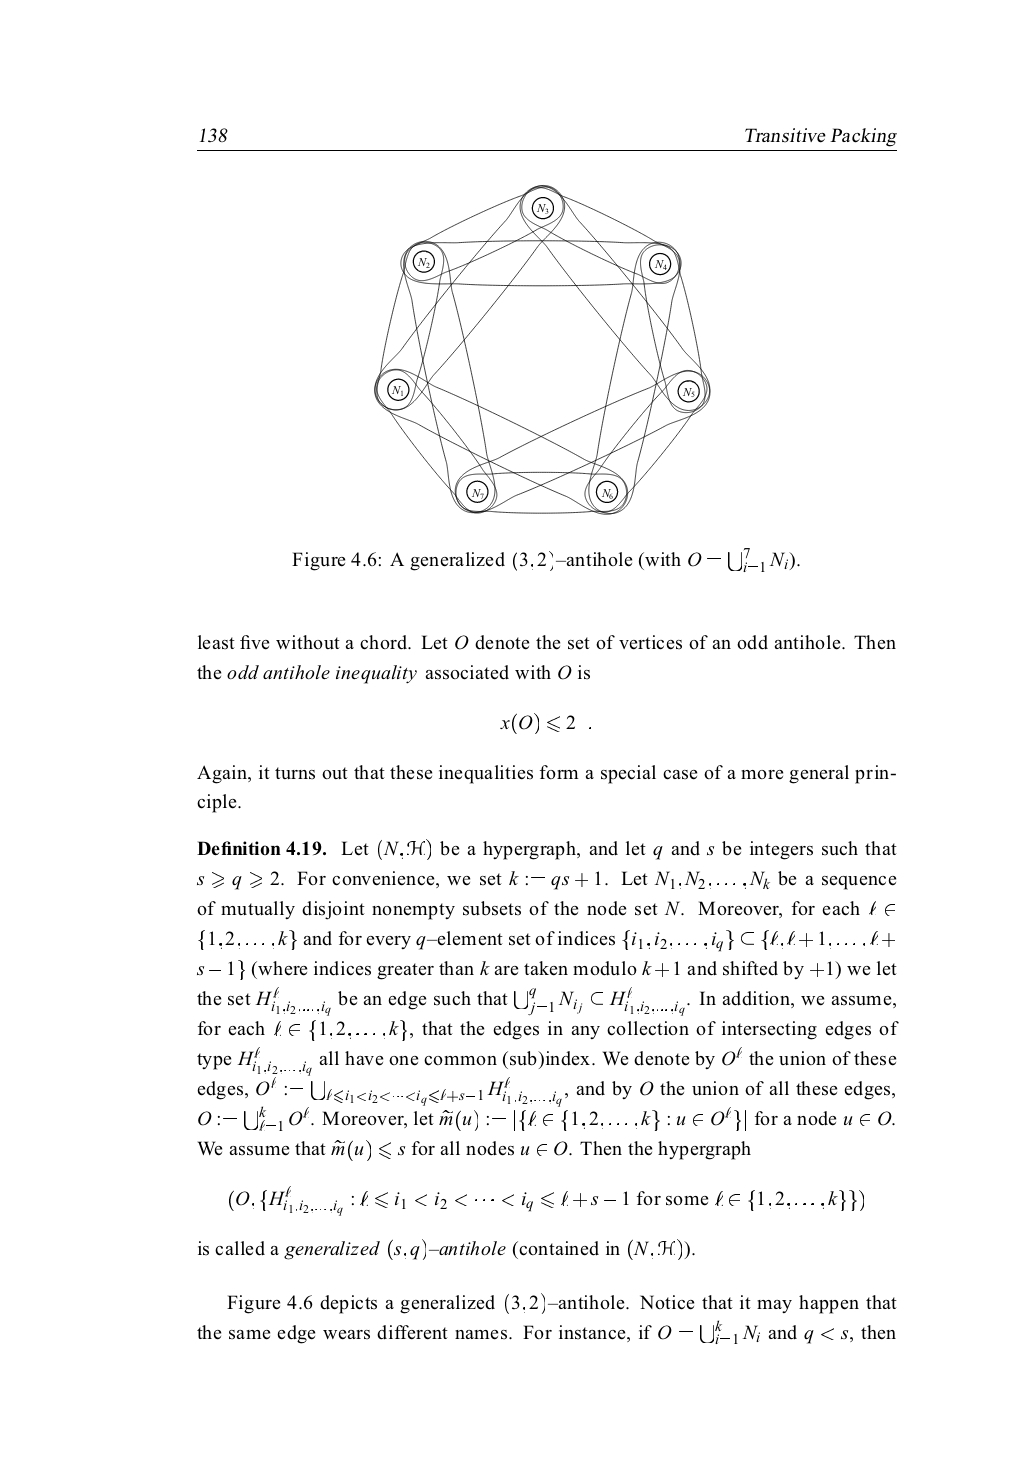figure: (374, 184, 710, 515)
formula: (229, 1185, 863, 1216), (500, 712, 590, 734)
